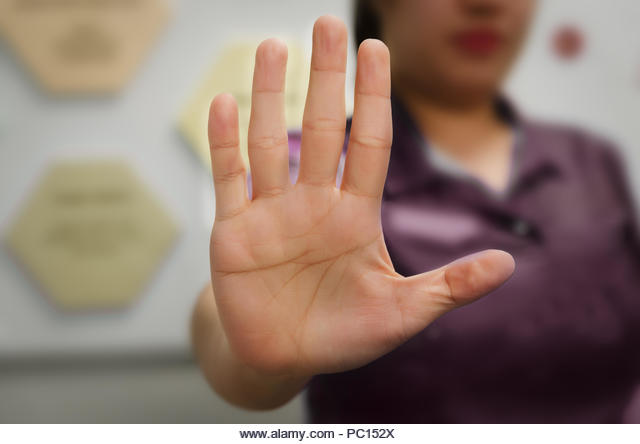non-diseased: (209, 15, 518, 362)
